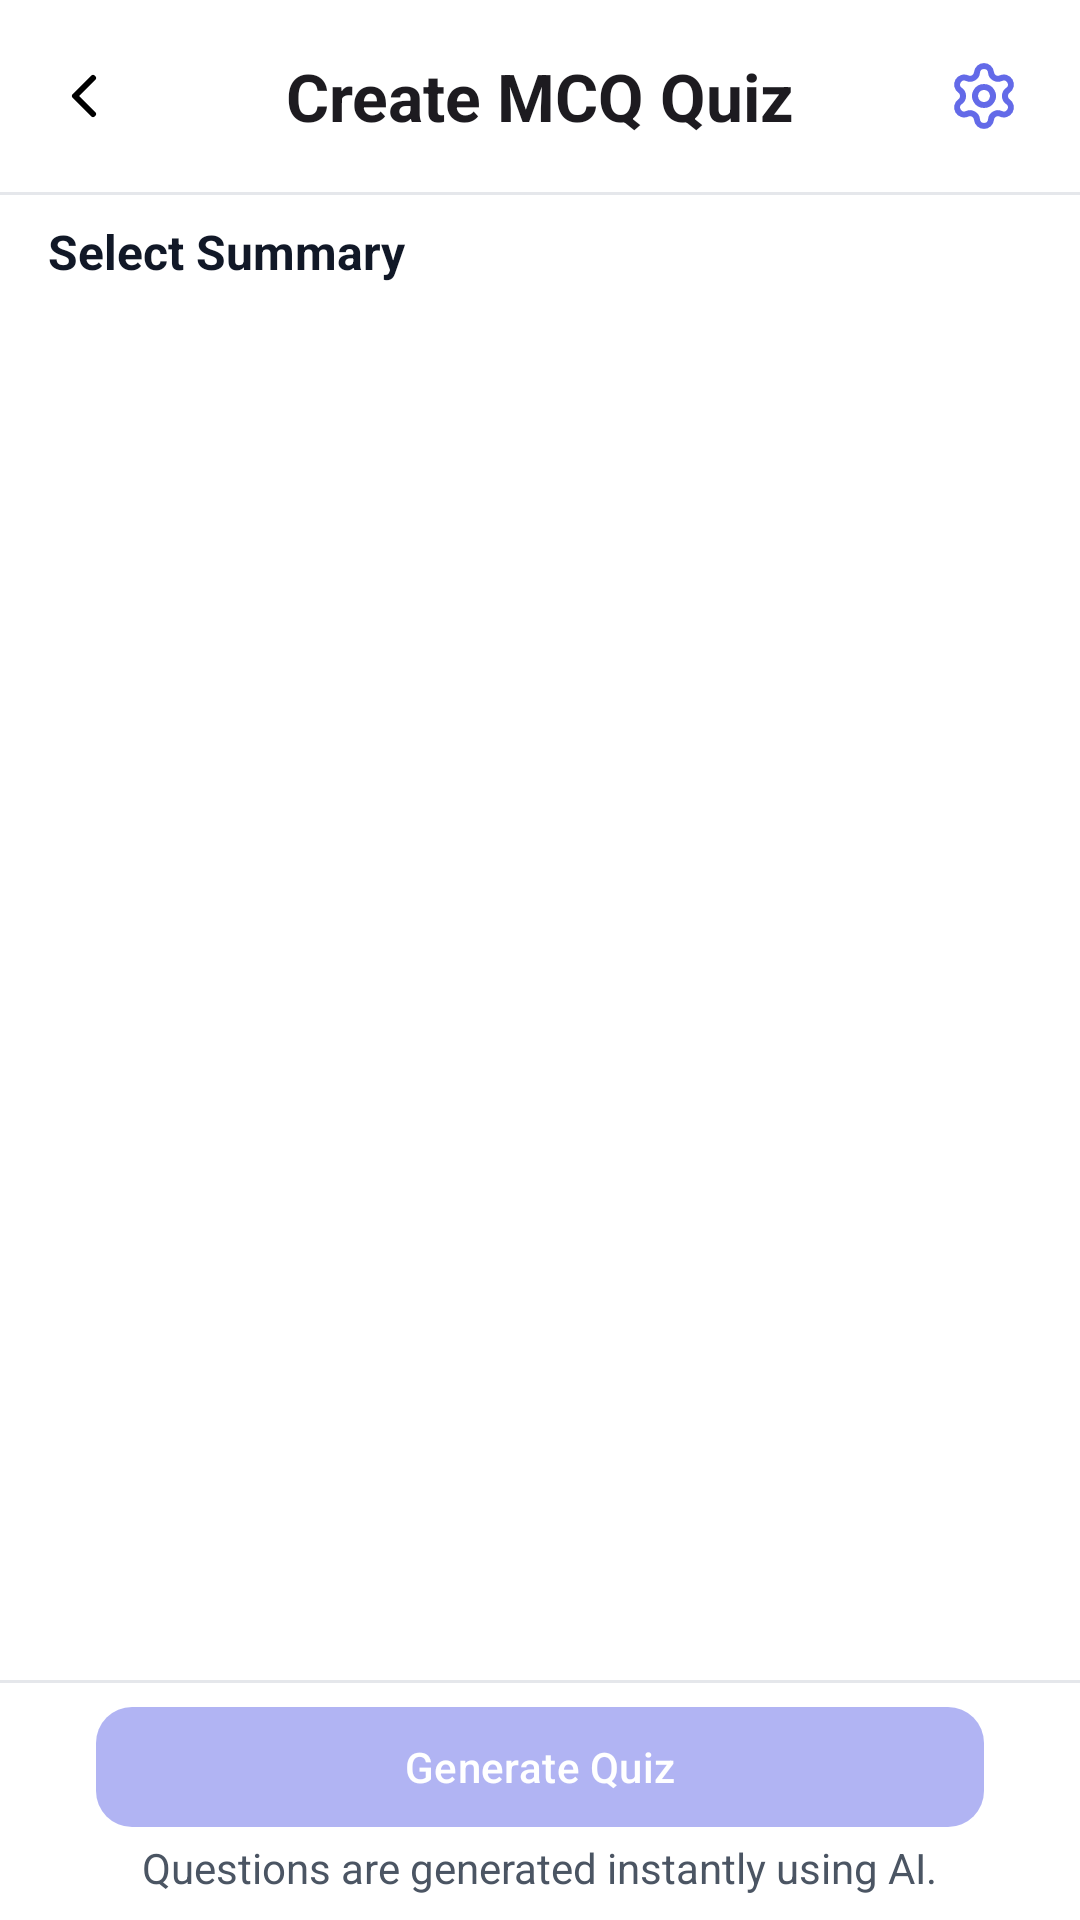

Where icons sit on this 1080px×1920px app screen, as rect(x1, y1, x2, y2):
Quiz Settings: rect(954, 63, 1014, 129)
